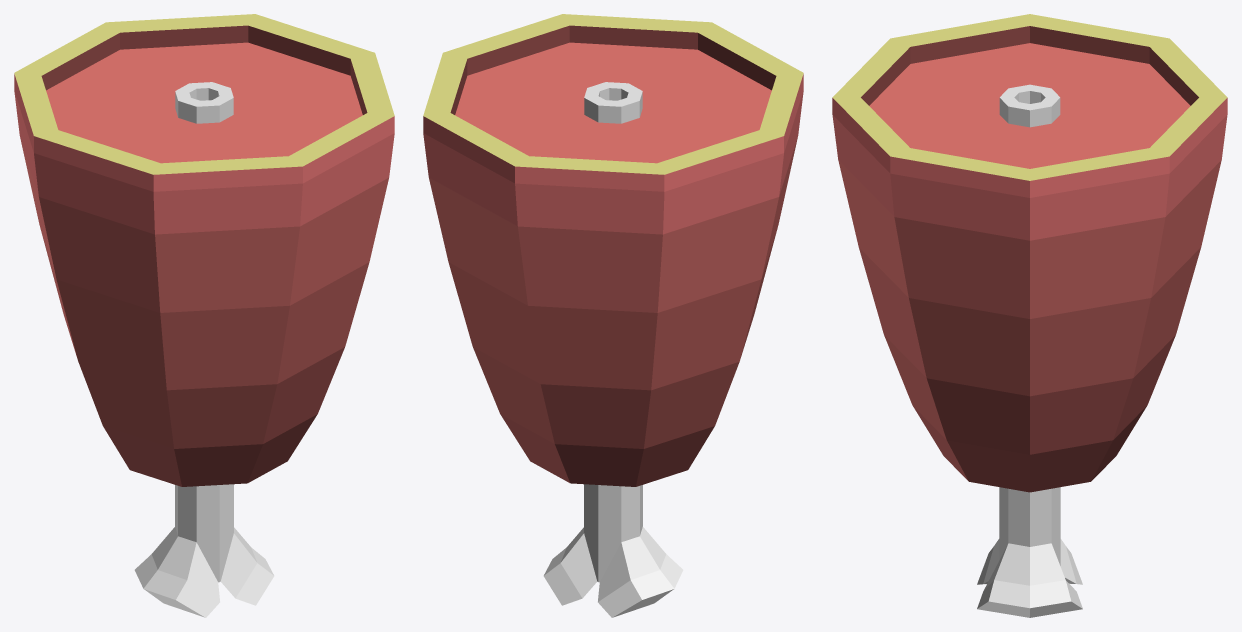
Rendered from meat.fbx.
3 renders of one model, left to right at view 1: azimuth 30°, elevation 25°; view 2: azimuth 150°, elevation 25°; view 3: azimuth 270°, elevation 25°, orthographic.
Parts seen in each view (by area): view 1: Plane; view 2: Plane; view 3: Plane.
Part boxes in pixels (x1,y1,x2,y2): Plane: [14, 14, 394, 617]; Plane: [423, 14, 803, 617]; Plane: [832, 14, 1227, 617].
Bounding box in the file's own units: 210 × 293 × 210.
